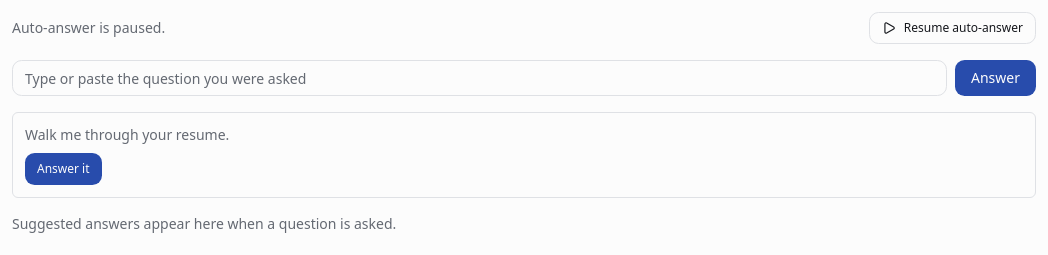
Test: LiveAssistant automatic answers › shows a detected question without answering while paused, and answers it on request
Check: the text "Walk me through your resume." is shown, box [25,125,229,144]
Step 1. Click the button "Answer it" → [63, 169], box [25,153,102,185]
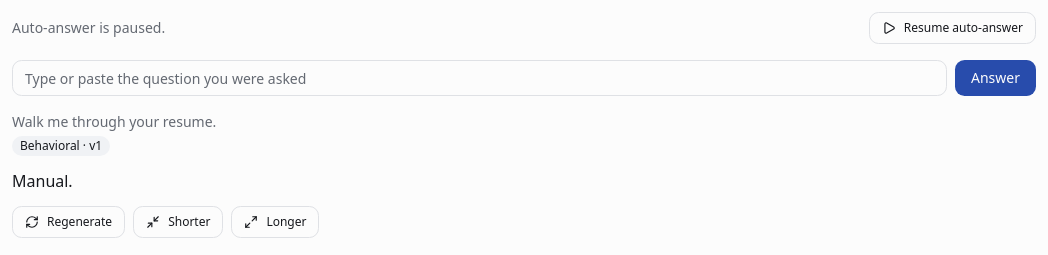
Check: the text "Manual." is shown, box [12,170,73,192]
Check: the button "Answer it" is gone
